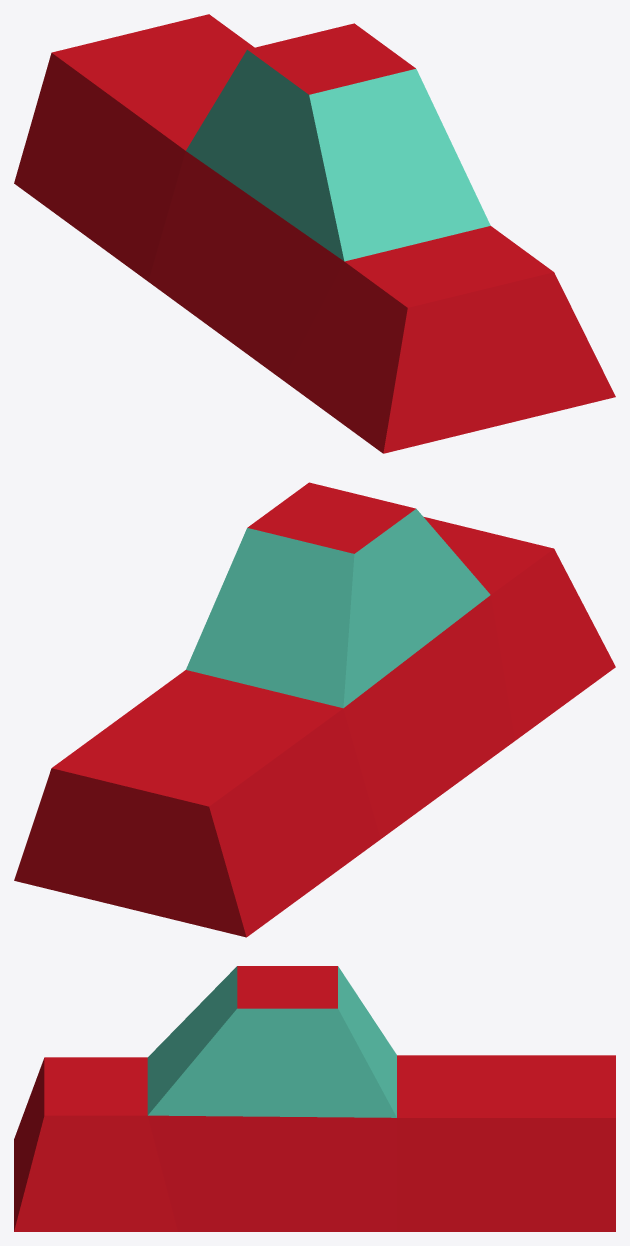
File: car2.gltf
3 views of the same model, one above another, from view 1: azimuth 30°, elevation 25°; view 2: azimuth 150°, elevation 25°; view 3: azimuth 270°, elevation 25° (orthographic). The views are drawn at different scales.
Parts seen in each view (by area): view 1: Cube; view 2: Cube; view 3: Cube.
Part boxes in pixels (x1=…): Cube: x1=14, y1=14, x2=615, y2=453; Cube: x1=14, y1=482, x2=615, y2=937; Cube: x1=14, y1=966, x2=615, y2=1231.
Bounding box in the file's own units: 0.2 × 0.2 × 0.55.
